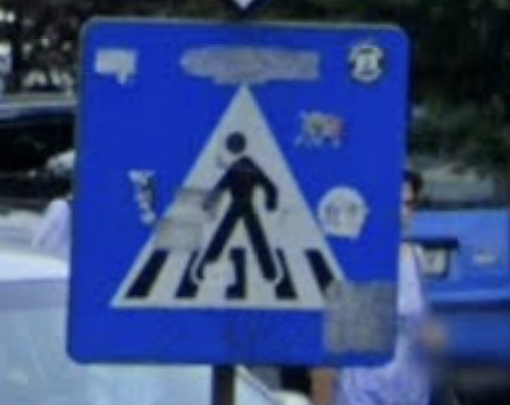trecere_pietoni: (75, 3, 413, 367)
